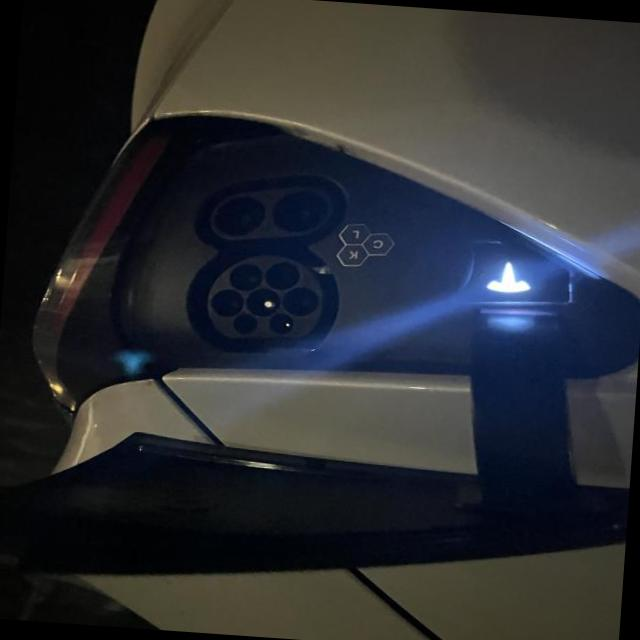inlet: (207, 254, 322, 337)
inlet-above-left: (268, 312, 292, 333)
inlet-above-right: (231, 313, 256, 333)
inlet-below-left: (264, 261, 299, 289)
inlet-below-right: (229, 262, 261, 290)
inlet-center: (245, 287, 279, 315)
inlet-center-left: (281, 286, 317, 315)
inlet-center-right: (210, 287, 243, 316)
